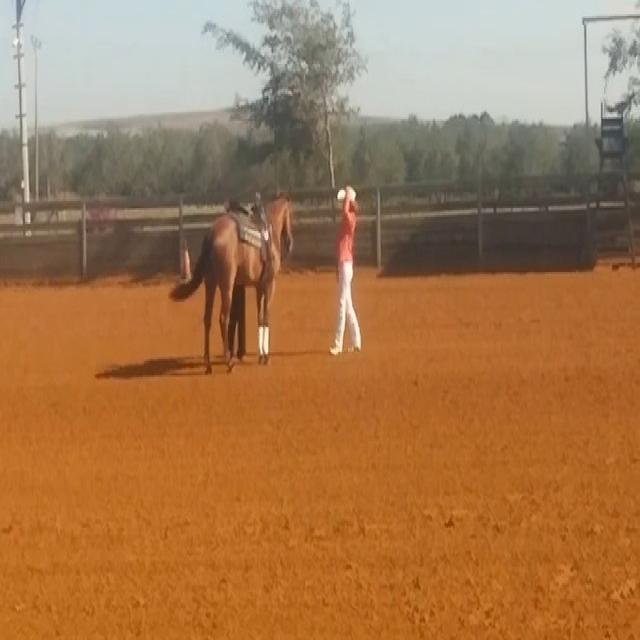horse: (168, 190, 296, 374)
